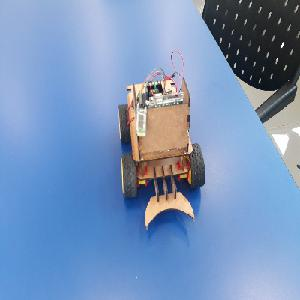Robot: (118, 80, 206, 230)
